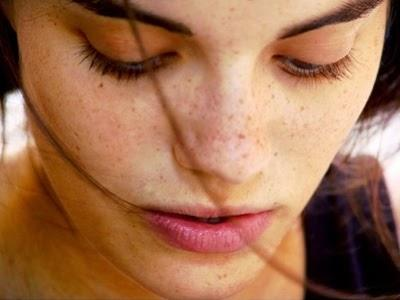Dark-Spots: (29, 79, 351, 184), (112, 225, 270, 300), (193, 1, 253, 78)
